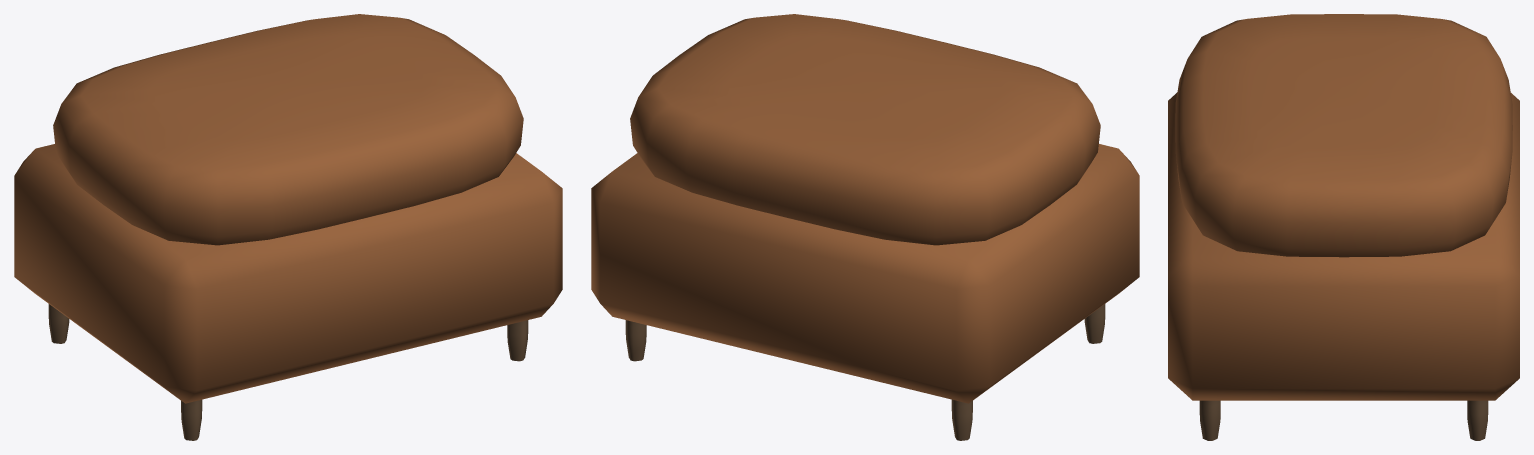
File: whiskey-ottoman-lod1.glb
3 views of the same model, side by side, from view 1: azimuth 30°, elevation 25°; view 2: azimuth 150°, elevation 25°; view 3: azimuth 270°, elevation 25° (orthographic).
Visible parts, largest first — view 1: whiskey-ottoman.lod1__whiskey cognac leather, whiskey-ottoman.lod1__dining smoked oak; view 2: whiskey-ottoman.lod1__whiskey cognac leather, whiskey-ottoman.lod1__dining smoked oak; view 3: whiskey-ottoman.lod1__whiskey cognac leather, whiskey-ottoman.lod1__dining smoked oak.
Boxes of the visible parts, x1,y1,x2,y2 form: whiskey-ottoman.lod1__whiskey cognac leather: [14, 14, 562, 403]; whiskey-ottoman.lod1__dining smoked oak: [48, 304, 528, 440]; whiskey-ottoman.lod1__whiskey cognac leather: [591, 14, 1139, 403]; whiskey-ottoman.lod1__dining smoked oak: [625, 304, 1105, 440]; whiskey-ottoman.lod1__whiskey cognac leather: [1168, 14, 1519, 400]; whiskey-ottoman.lod1__dining smoked oak: [1199, 400, 1488, 440].
Bounding box in the file's own units: 0.66 × 0.42 × 0.5.
